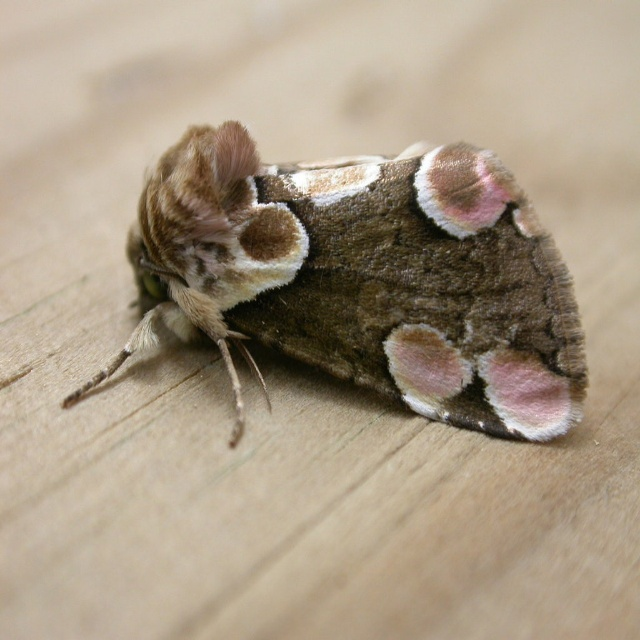Moths and butterflies: (59, 113, 593, 452)
